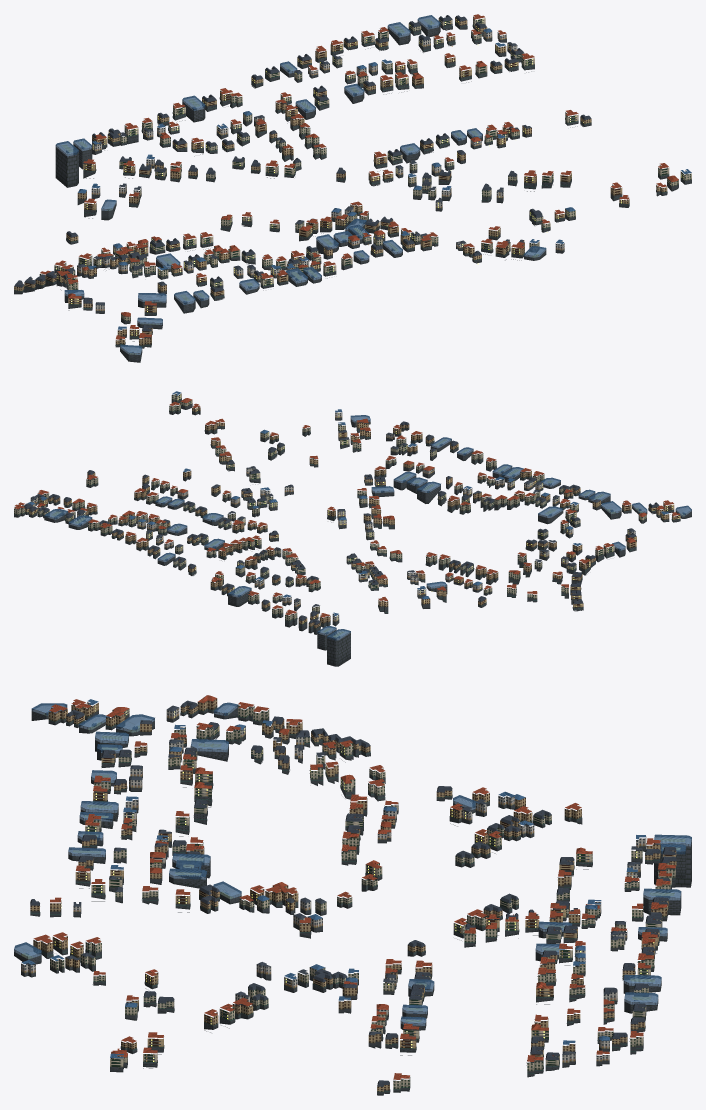
Rendered from osm_buildings_T_E02_S02_Q1.glb.
3 views of the same model, one above another, from view 1: azimuth 30°, elevation 25°; view 2: azimuth 150°, elevation 25°; view 3: azimuth 270°, elevation 25° (orthographic). The views are drawn at different scales.
Visible parts, largest first — view 1: OSM_T_E02_S02_Q1_foundation, OSM_T_E02_S02_Q1_wall_french_ochre, OSM_T_E02_S02_Q1_wall_cream_stucco, OSM_T_E02_S02_Q1_roof_terracotta, OSM_T_E02_S02_Q1_greenhouse_blend, OSM_T_E02_S02_Q1_roof_mansard_slate, OSM_T_E02_S02_Q1_roof_mansard_deck, OSM_T_E02_S02_Q1_roof_mint_metal, OSM_T_E02_S02_Q1_wall_warm_white, OSM_T_E02_S02_Q1_balcony_railing, OSM_T_E02_S02_Q1_trim_cornice, OSM_T_E02_S02_Q1_roof_alpine_blue (+2 smaller); view 2: OSM_T_E02_S02_Q1_foundation, OSM_T_E02_S02_Q1_wall_french_ochre, OSM_T_E02_S02_Q1_wall_cream_stucco, OSM_T_E02_S02_Q1_roof_terracotta, OSM_T_E02_S02_Q1_greenhouse_blend, OSM_T_E02_S02_Q1_roof_mansard_slate, OSM_T_E02_S02_Q1_roof_mansard_deck, OSM_T_E02_S02_Q1_wall_warm_white, OSM_T_E02_S02_Q1_roof_mint_metal, OSM_T_E02_S02_Q1_roof_alpine_blue, OSM_T_E02_S02_Q1_wall_pastel_sand, OSM_T_E02_S02_Q1_window_emissive_warm (+2 smaller); view 3: OSM_T_E02_S02_Q1_foundation, OSM_T_E02_S02_Q1_wall_cream_stucco, OSM_T_E02_S02_Q1_wall_french_ochre, OSM_T_E02_S02_Q1_roof_terracotta, OSM_T_E02_S02_Q1_greenhouse_blend, OSM_T_E02_S02_Q1_roof_mansard_slate, OSM_T_E02_S02_Q1_roof_mansard_deck, OSM_T_E02_S02_Q1_trim_cornice, OSM_T_E02_S02_Q1_wall_warm_white, OSM_T_E02_S02_Q1_roof_alpine_blue, OSM_T_E02_S02_Q1_roof_mint_metal, OSM_T_E02_S02_Q1_wall_pastel_sand (+2 smaller).
Part boxes in pixels (x1,y1,x2,y2): OSM_T_E02_S02_Q1_foundation: (14, 21, 691, 362); OSM_T_E02_S02_Q1_wall_french_ochre: (14, 18, 667, 345); OSM_T_E02_S02_Q1_wall_cream_stucco: (39, 16, 691, 320); OSM_T_E02_S02_Q1_roof_terracotta: (40, 14, 678, 339); OSM_T_E02_S02_Q1_greenhouse_blend: (55, 15, 546, 354); OSM_T_E02_S02_Q1_roof_mansard_slate: (14, 15, 591, 331); OSM_T_E02_S02_Q1_roof_mansard_deck: (15, 15, 589, 354); OSM_T_E02_S02_Q1_roof_mint_metal: (14, 22, 668, 346); OSM_T_E02_S02_Q1_wall_warm_white: (77, 32, 517, 275); OSM_T_E02_S02_Q1_balcony_railing: (55, 20, 669, 345); OSM_T_E02_S02_Q1_trim_cornice: (14, 18, 690, 343); OSM_T_E02_S02_Q1_roof_alpine_blue: (78, 28, 691, 329); OSM_T_E02_S02_Q1_foundation: (14, 398, 691, 666); OSM_T_E02_S02_Q1_wall_french_ochre: (24, 405, 680, 628); OSM_T_E02_S02_Q1_wall_cream_stucco: (14, 393, 646, 621); OSM_T_E02_S02_Q1_roof_terracotta: (14, 398, 679, 617); OSM_T_E02_S02_Q1_greenhouse_blend: (44, 415, 691, 640); OSM_T_E02_S02_Q1_roof_mansard_slate: (24, 422, 659, 624); OSM_T_E02_S02_Q1_roof_mansard_deck: (25, 420, 685, 638); OSM_T_E02_S02_Q1_wall_warm_white: (17, 434, 573, 621); OSM_T_E02_S02_Q1_roof_mint_metal: (14, 410, 679, 629); OSM_T_E02_S02_Q1_roof_alpine_blue: (28, 391, 668, 615); OSM_T_E02_S02_Q1_wall_pastel_sand: (32, 412, 635, 607); OSM_T_E02_S02_Q1_window_emissive_warm: (28, 396, 683, 636); OSM_T_E02_S02_Q1_foundation: (14, 707, 691, 1095); OSM_T_E02_S02_Q1_wall_cream_stucco: (50, 705, 675, 1089); OSM_T_E02_S02_Q1_wall_french_ochre: (30, 699, 676, 1091); OSM_T_E02_S02_Q1_roof_terracotta: (33, 695, 675, 1079); OSM_T_E02_S02_Q1_greenhouse_blend: (14, 702, 691, 1025); OSM_T_E02_S02_Q1_roof_mansard_slate: (30, 702, 676, 1086); OSM_T_E02_S02_Q1_roof_mansard_deck: (15, 700, 688, 1083); OSM_T_E02_S02_Q1_trim_cornice: (23, 700, 674, 1089); OSM_T_E02_S02_Q1_wall_warm_white: (73, 726, 646, 1062); OSM_T_E02_S02_Q1_roof_alpine_blue: (21, 699, 645, 1058); OSM_T_E02_S02_Q1_roof_mint_metal: (30, 707, 676, 1092); OSM_T_E02_S02_Q1_wall_pastel_sand: (21, 708, 640, 1048).
Size of the model in its own units: 995 by 138 by 753.
Materials: 16 (16 with a texture image).
